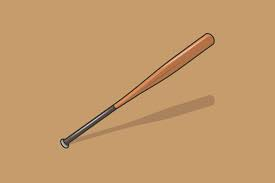baseball bat: (60, 32, 215, 150)
